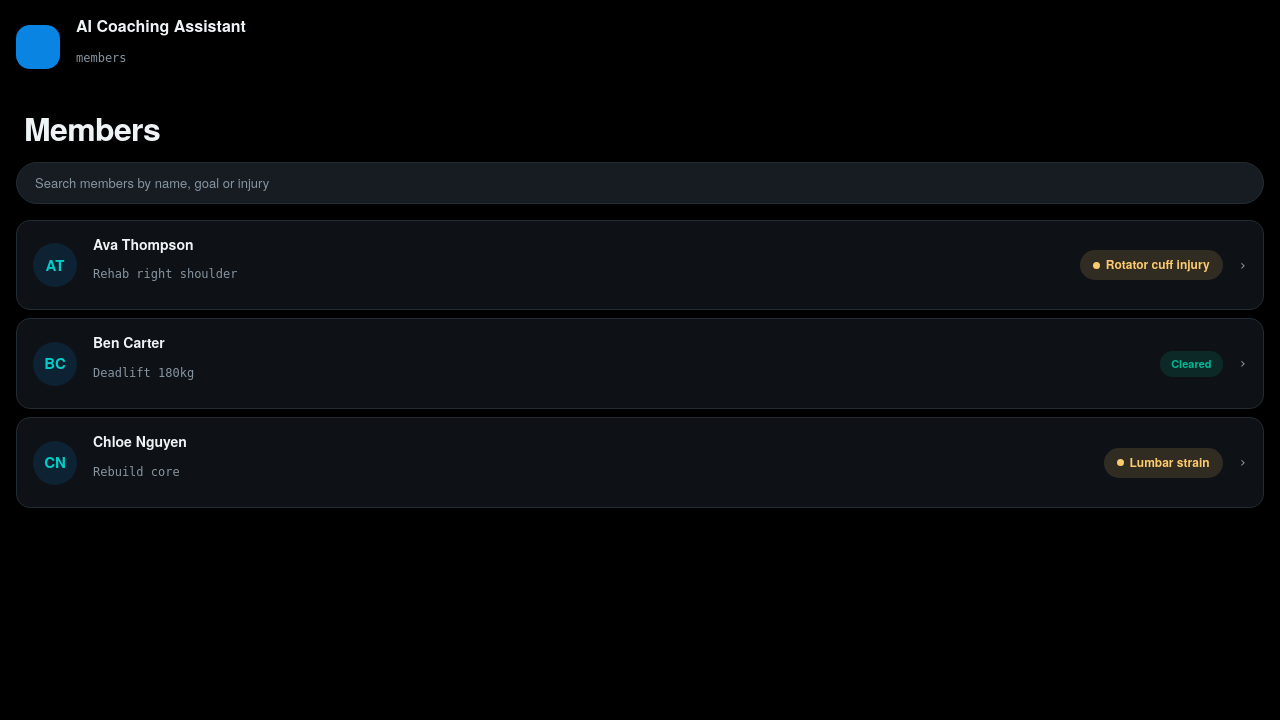
the Workout tab generates a plan and renders it with safety flags
Click the button "AT Ava Thompson Rehab right shoulder Rotator cuff injury ›": (55,265) [16,220,1264,310]
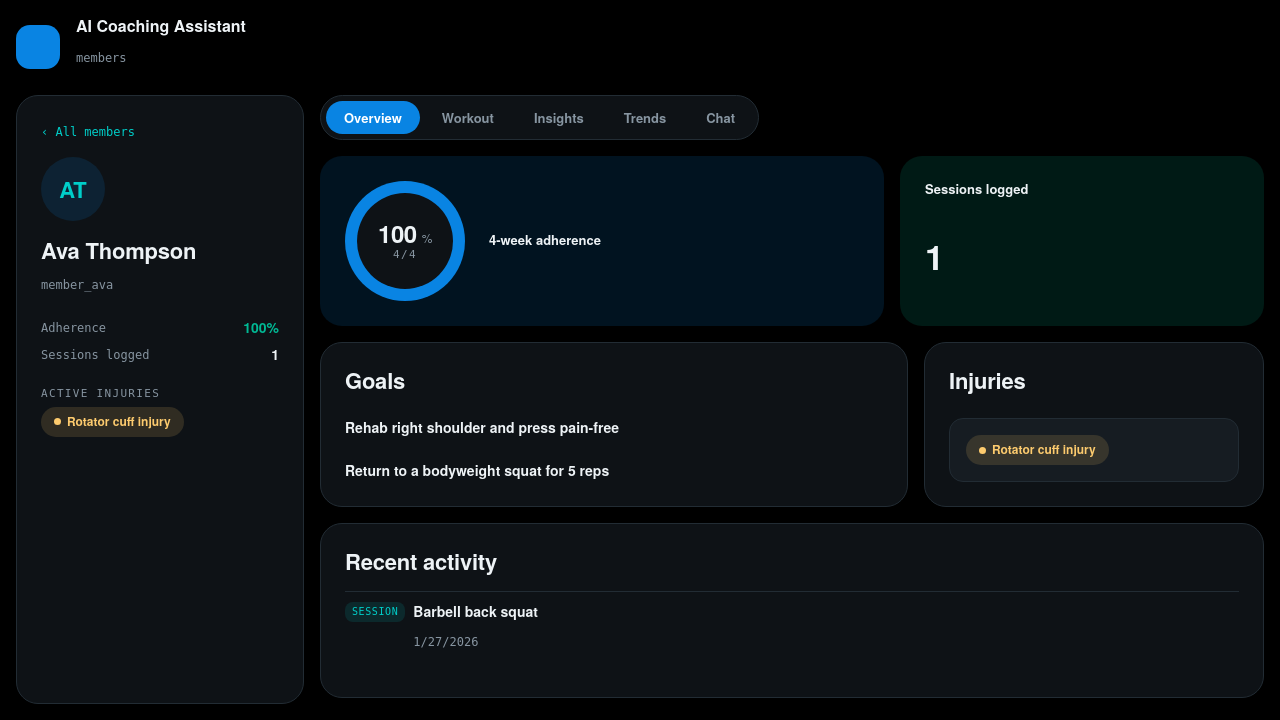
Result: the text "Rehab right shoulder and press pain-free" is shown at [345,417,619,437]
Click the tab "Workout": (468,117) [424,101,512,134]
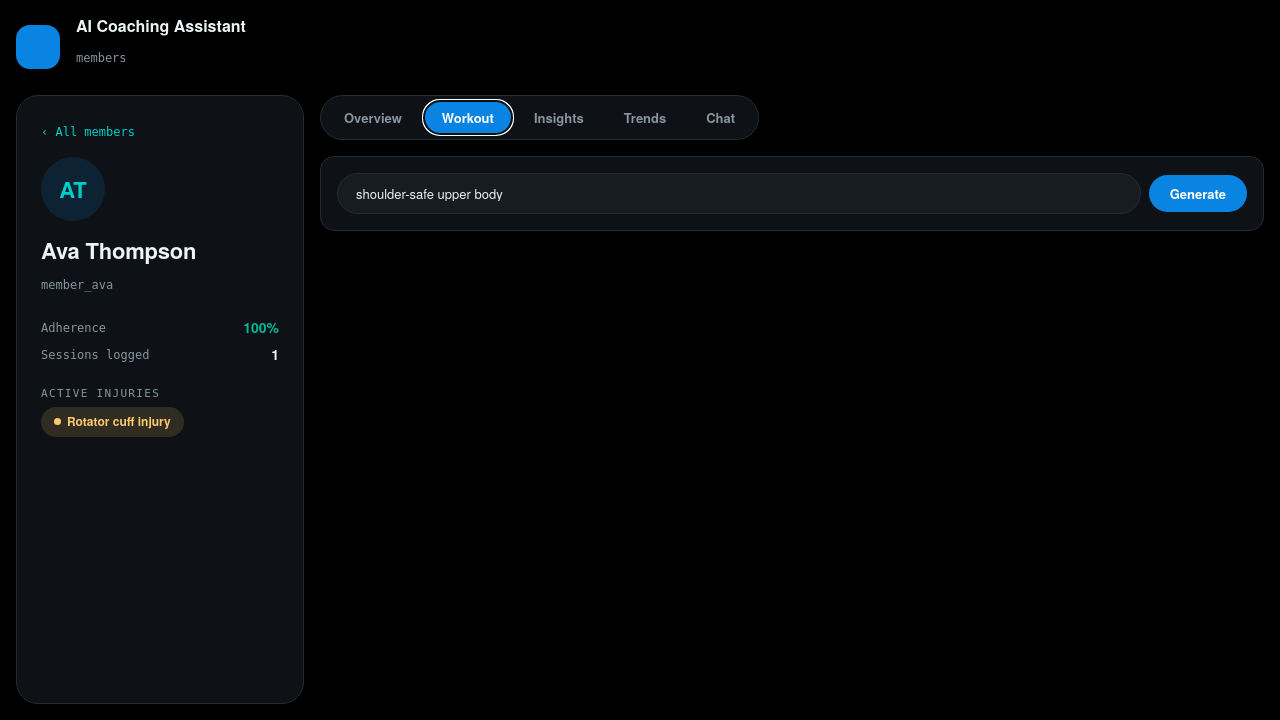
Result: the element showing "Generate" is shown at [320,156,1264,231]
Click the button "Generate": (1198,194) [1149,175,1247,212]
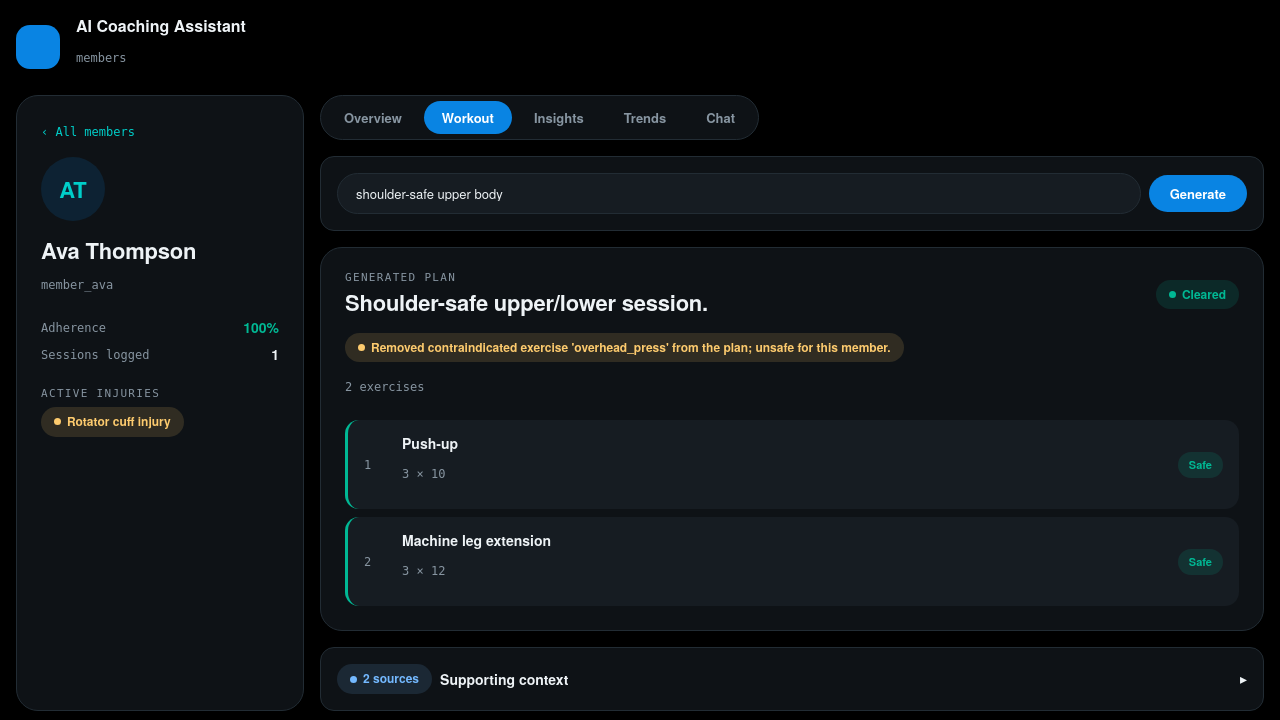
Result: the element that starts with "Generated plan" is shown at [320,247,1264,631]
Result: the text "Push-up" is shown at [402,434,458,454]
Result: the text "contraindicated" is shown at [371,338,891,356]
